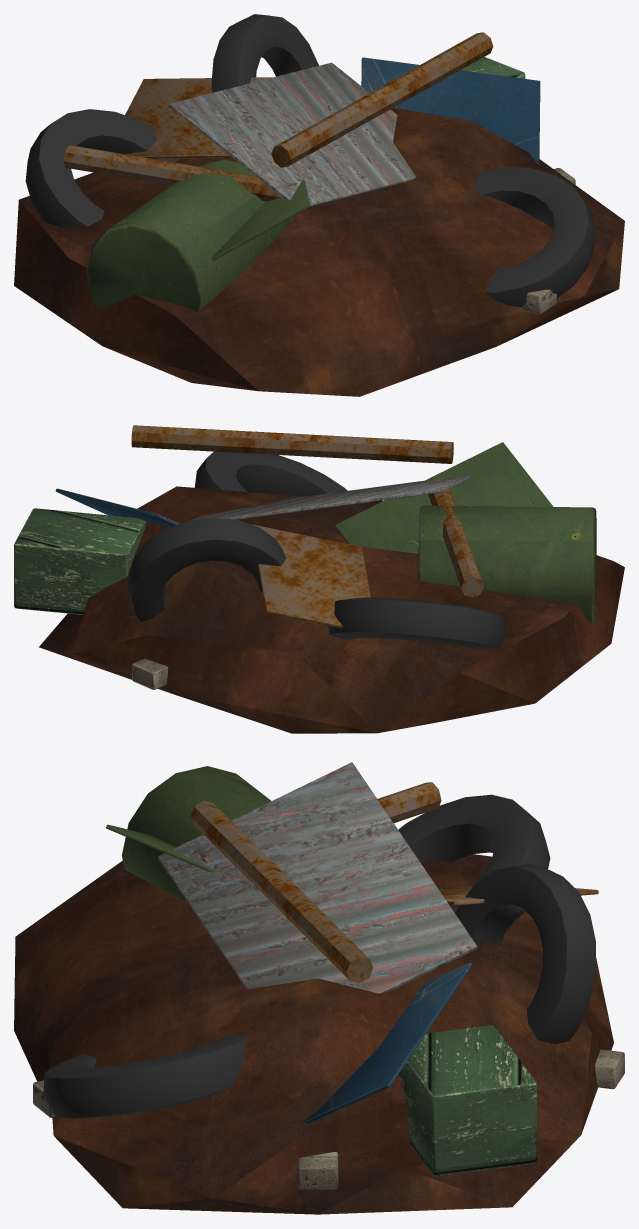
Rendered from node_junk.glb.
3 views of the same model, one above another, from view 1: azimuth 30°, elevation 25°; view 2: azimuth 150°, elevation 25°; view 3: azimuth 270°, elevation 25° (orthographic). The views are drawn at different scales.
Visible parts, largest first — view 1: blob, box, cyl.002, torus.001, torus, box.002, cyl, torus.002, box.003, cyl.001, box.001, box.004 (+1 smaller); view 2: blob, cyl.002, box.004, box.001, torus.002, box.003, cyl, torus, torus.001, box, cyl.001, box.002 (+1 smaller); view 3: blob, box, box.004, torus.002, torus.001, torus, cyl.002, cyl, box.002, cyl.001, box.005, box.006 (+2 smaller).
Part boxes in pixels (x1,y1,x2,y2): blob: (14,107,624,396); box: (169,62,415,206); cyl.002: (86,159,291,311); torus.001: (474,167,595,306); torus: (25,109,179,227); box.002: (361,57,540,164); cyl: (271,32,493,167); torus.002: (211,14,318,92); box.003: (125,77,272,158); cyl.001: (64,145,297,201); box.001: (211,179,310,260); box.004: (461,57,525,78); blob: (39,486,624,733); cyl.002: (418,505,596,623); box.004: (14,508,146,614); box.001: (335,442,553,553); torus.002: (127,517,286,621); box.003: (252,524,370,628); cyl: (131,425,453,463); torus: (328,597,506,649); torus.001: (194,451,347,496); box: (191,475,470,520); cyl.001: (428,479,483,597); box.002: (55,488,179,527); blob: (14,854,613,1214); box: (157,762,477,993); box.004: (399,1025,536,1176); torus.002: (455,863,595,1044); torus.001: (43,1034,247,1118); torus: (398,794,550,929); cyl.002: (121,766,271,900); cyl: (190,801,373,983); box.002: (303,962,472,1123); cyl.001: (201,782,441,863); box.005: (298,1152,338,1189); box.006: (595,1049,624,1089).
Size of the model in its own units: 1.98 by 0.7268 by 1.68.
8 materials, 7 textured.
